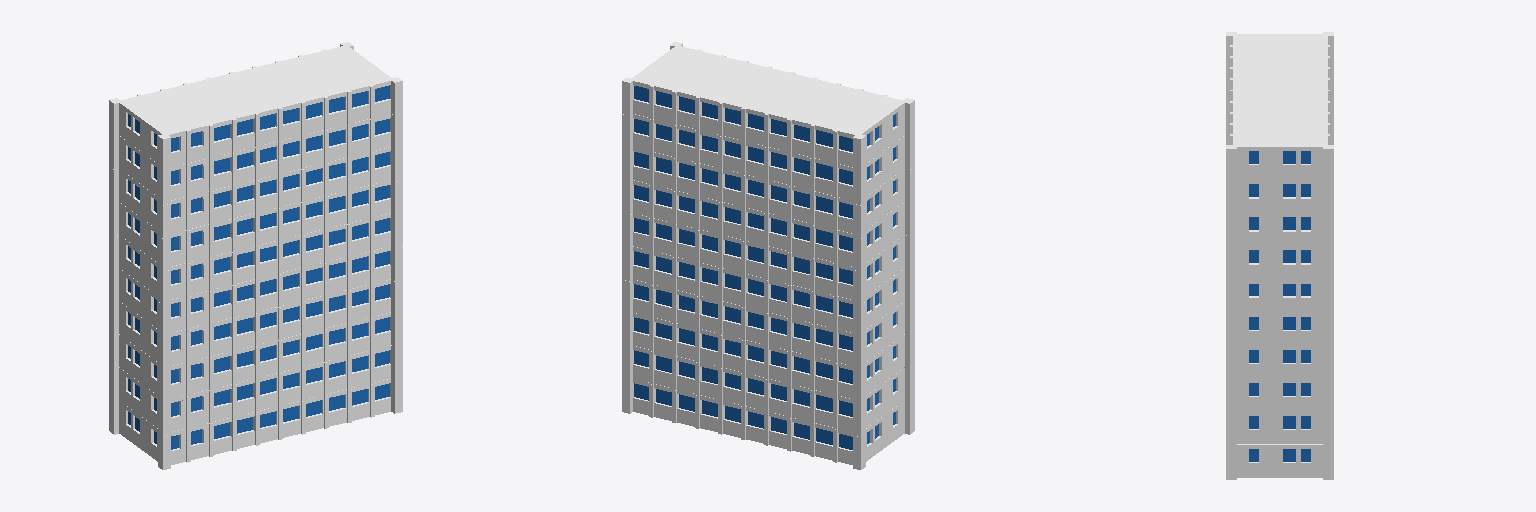
File: build_reto.obj
The picture shows the model from 3 angles: view 1: azimuth 30°, elevation 25°; view 2: azimuth 150°, elevation 25°; view 3: azimuth 270°, elevation 25°; orthographic projection.
Parts seen in each view (by area): view 1: Cube; view 2: Cube; view 3: Cube.
Part boxes in pixels (x1,y1,x2,y2): Cube: (109, 42, 402, 469); Cube: (622, 42, 914, 469); Cube: (1226, 32, 1333, 479).
Bounding box in the file's own units: 10.38 × 13.68 × 4.03.